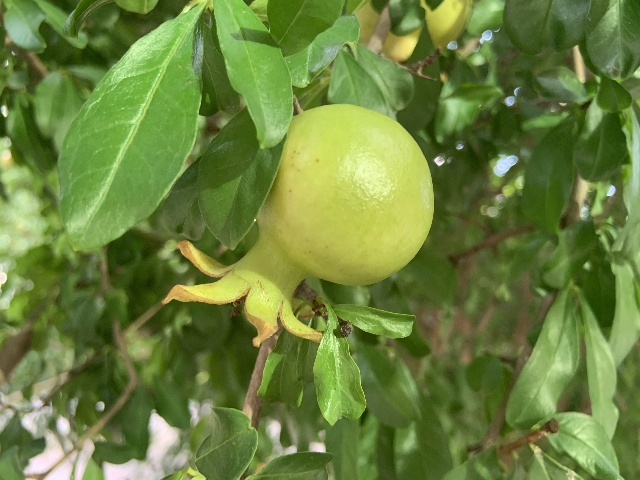mid-growth: (167, 103, 434, 347)
